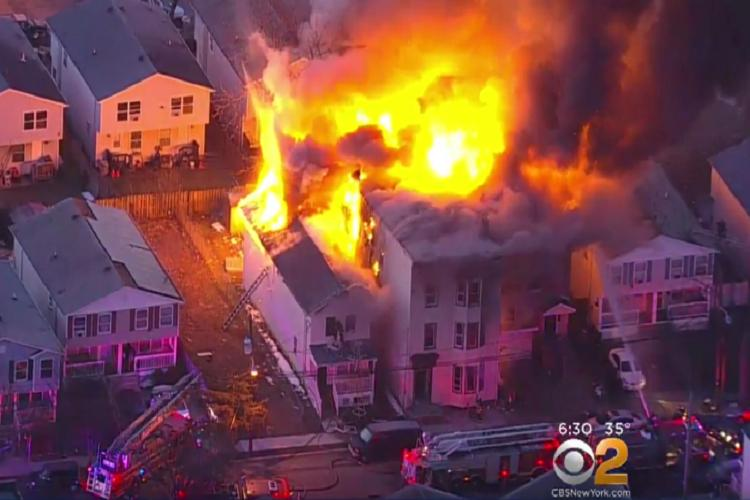Fire: (211, 63, 536, 270)
